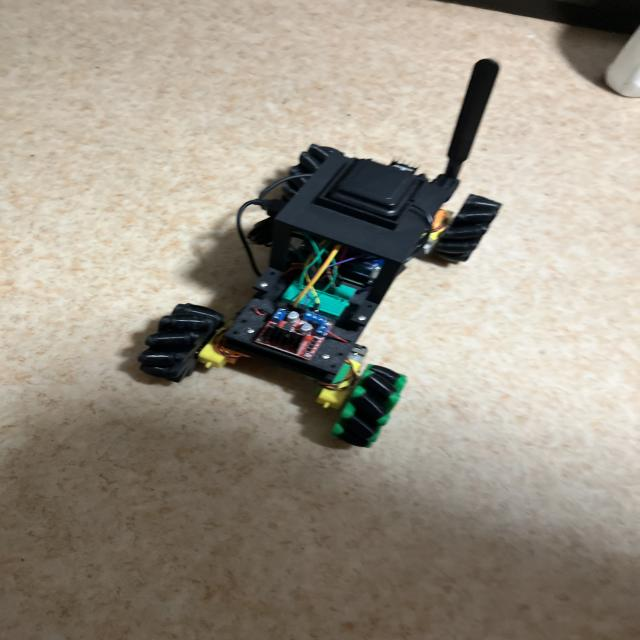robot: (139, 60, 501, 446)
